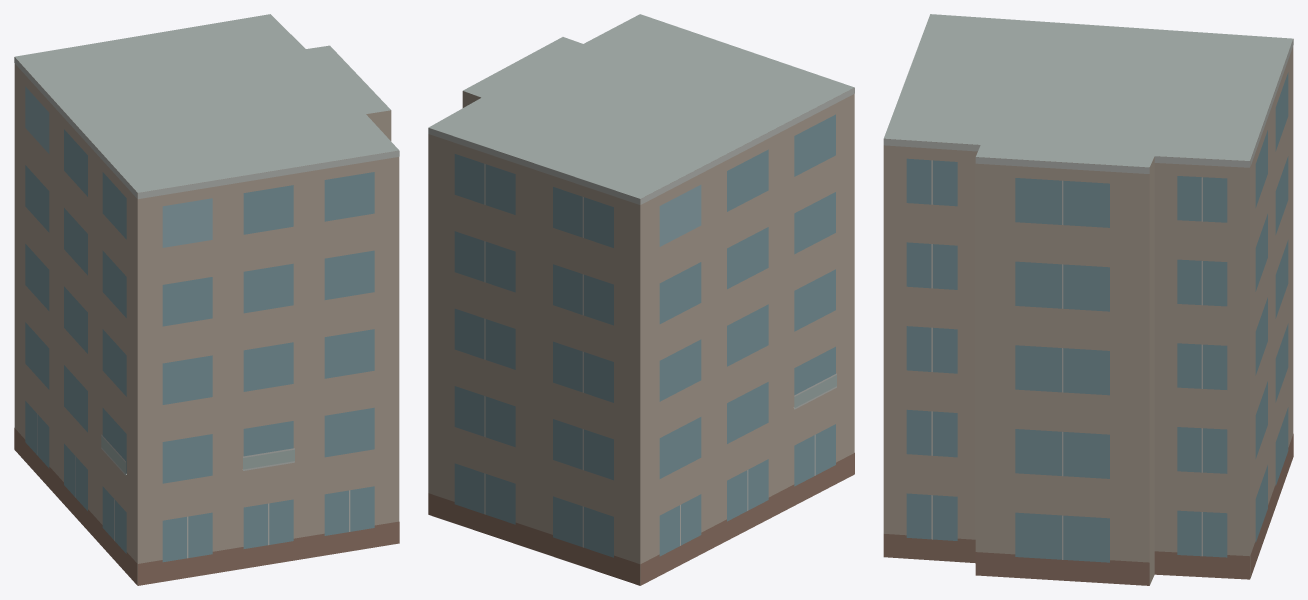
Rendered from survey-upis-32685492.glb.
3 views of the same model, side by side, from view 1: azimuth 30°, elevation 25°; view 2: azimuth 150°, elevation 25°; view 3: azimuth 270°, elevation 25° (orthographic). The views are drawn at different scales.
Visible parts, largest first — view 1: survey-upis-32685492.tmp; view 2: survey-upis-32685492.tmp; view 3: survey-upis-32685492.tmp.
Boxes of the visible parts, x1,y1,x2,y2 form: survey-upis-32685492.tmp: [14, 14, 399, 585]; survey-upis-32685492.tmp: [428, 14, 854, 585]; survey-upis-32685492.tmp: [883, 14, 1293, 585].
Bounding box in the file's own units: 11.92 × 15.15 × 13.45.
